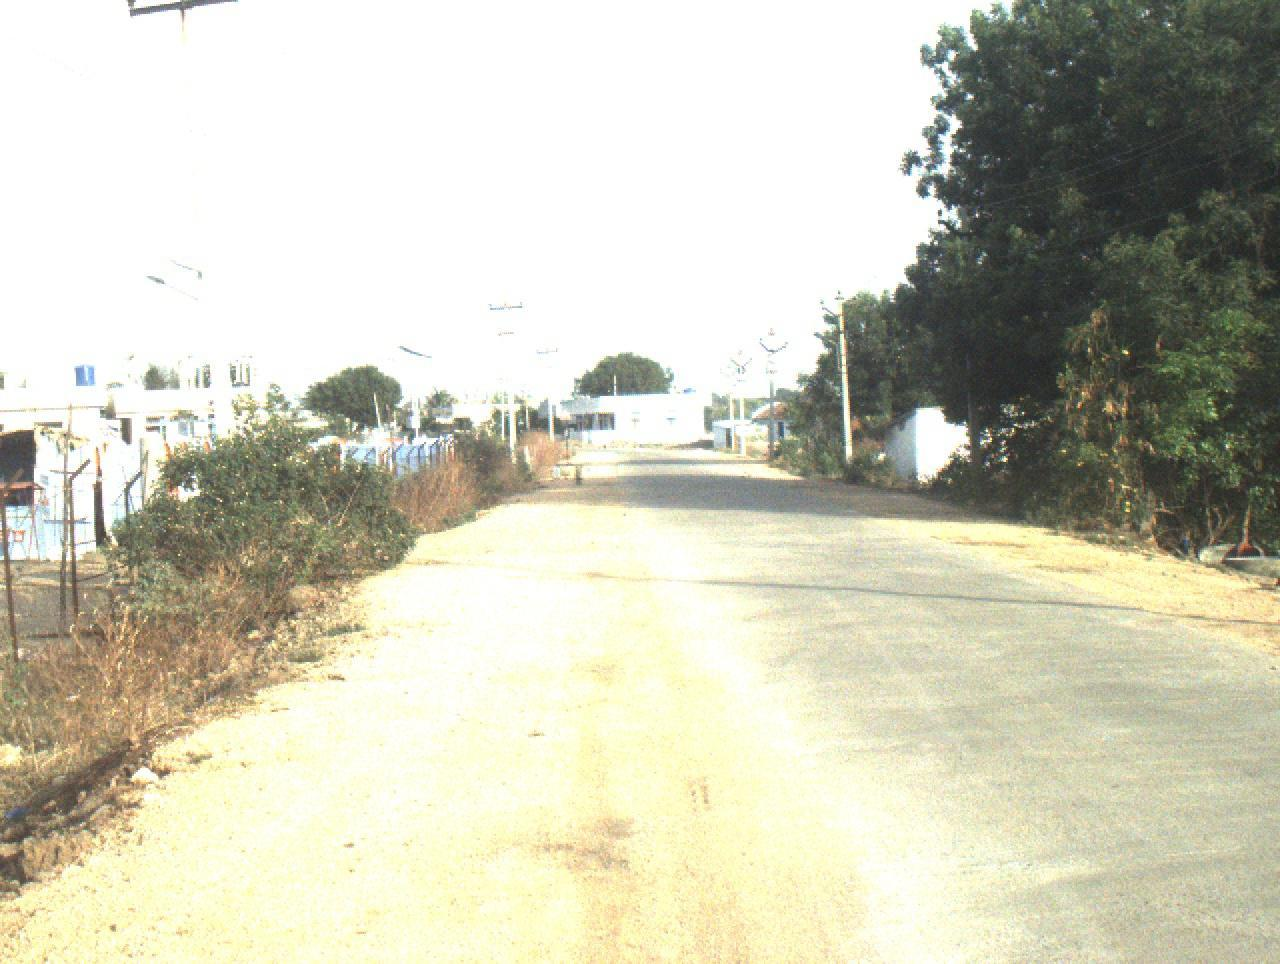off: (60, 0, 1223, 964)
